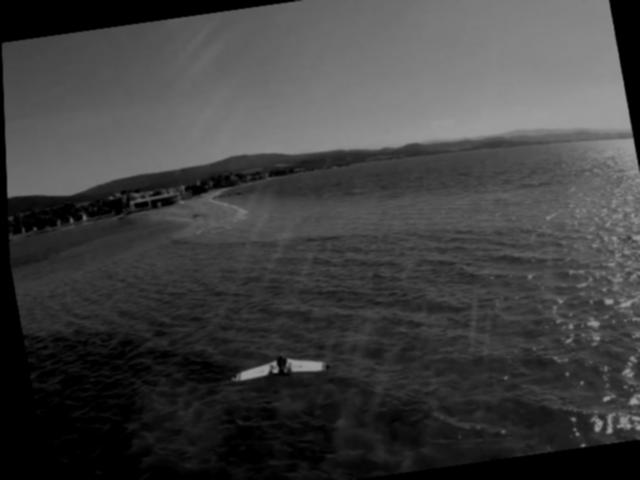hedef: (214, 318, 345, 408)
